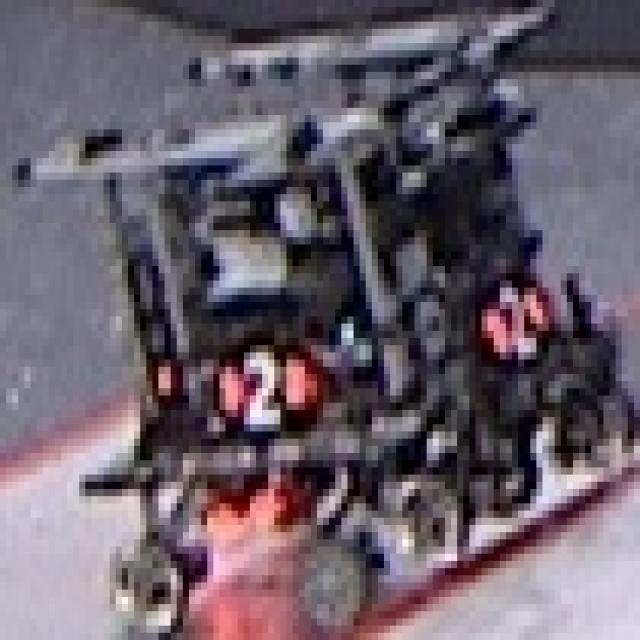R2: (192, 338, 326, 439), (454, 266, 546, 367)
